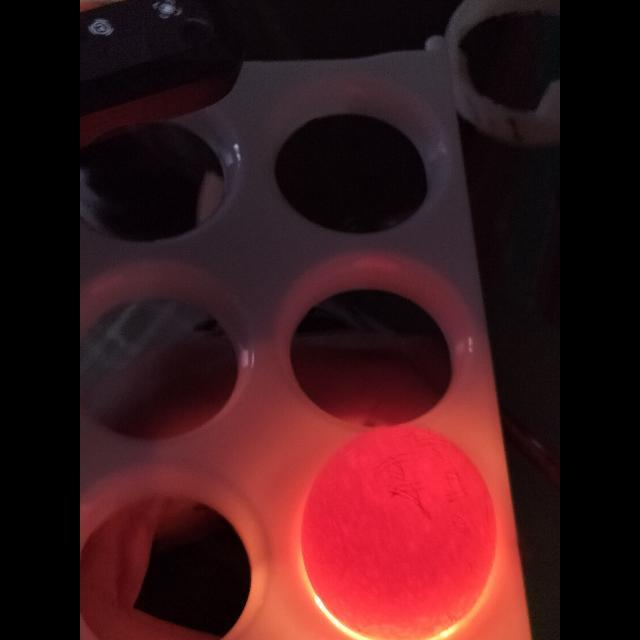Infertile: (298, 425, 498, 633)
